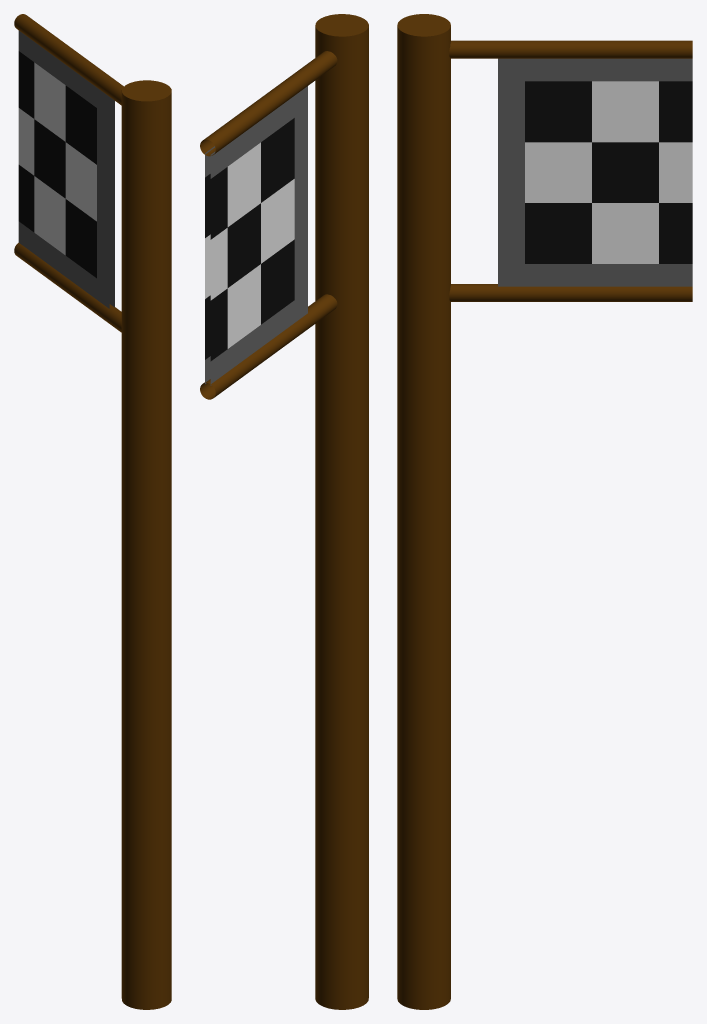
Rendered from Prop_Track_Banner_Finish_Line_End.obj.
The picture shows the model from 3 angles, left to right: view 1: azimuth 30°, elevation 25°; view 2: azimuth 150°, elevation 25°; view 3: azimuth 270°, elevation 25°; orthographic projection. The views are drawn at different scales.
Parts seen in each view (by area): view 1: object4, object2, object1, object5, object3; view 2: object4, object2, object1, object5, object3; view 3: object4, object3, object1, object5.
Part boxes in pixels (x1,y1,x2,y2): object4: [121, 80, 171, 1009]; object2: [18, 30, 109, 308]; object1: [14, 14, 123, 105]; object5: [14, 242, 121, 332]; object3: [109, 97, 114, 307]; object4: [315, 14, 368, 1009]; object2: [210, 86, 307, 385]; object1: [200, 51, 337, 156]; object5: [200, 294, 337, 399]; object3: [205, 146, 214, 383]; object4: [397, 14, 450, 1009]; object3: [498, 58, 692, 286]; object1: [449, 40, 692, 58]; object5: [449, 284, 692, 301].
Size of the model in its own units: 0.0993 by 2 by 0.55.
